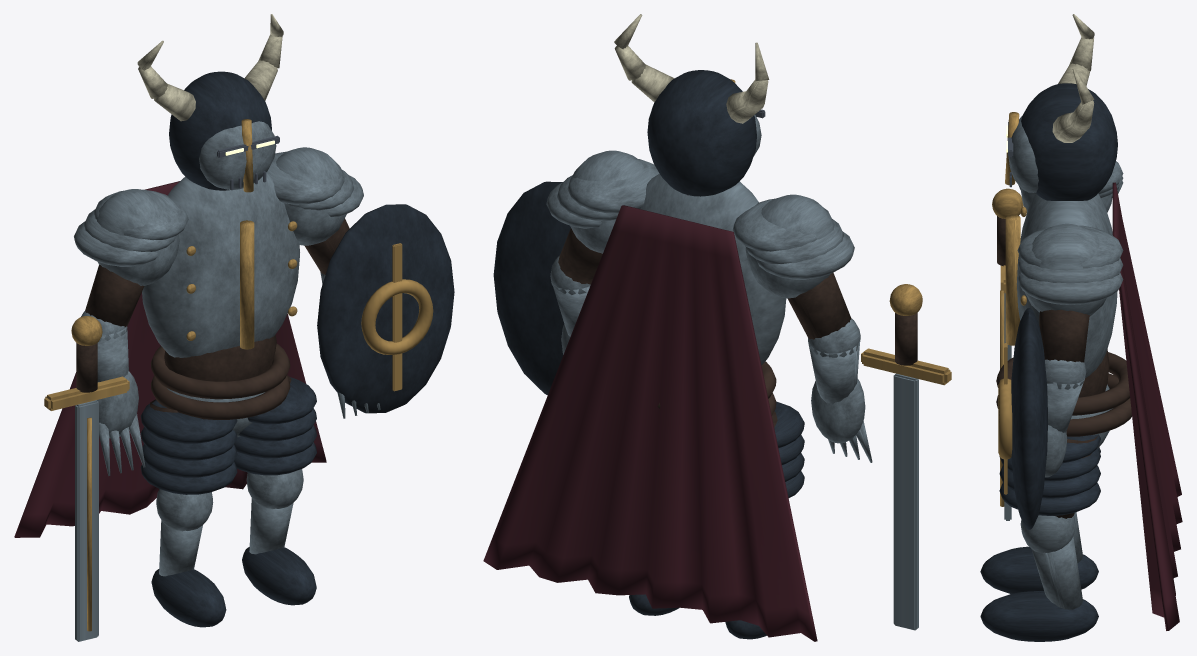
The model's file is enemy_knight.glb.
3 renders of one model, left to right at view 1: azimuth 30°, elevation 25°; view 2: azimuth 150°, elevation 25°; view 3: azimuth 270°, elevation 25°, orthographic. The views are drawn at different scales.
Visible parts, largest first — view 1: Weathered_blue_steel, Forged_black_iron.003, Weathered_blue_steel.002, Worn_crimson_cloth, Forged_black_iron, Oiled_leather, Forged_black_iron.001, Antique_brass.002, Weathered_blue_steel.004, Forged_black_iron.002, Weathered_blue_steel.006, Weathered_blue_steel.001 (+8 smaller); view 2: Worn_crimson_cloth, Weathered_blue_steel.002, Forged_black_iron.003, Forged_black_iron.002, Weathered_blue_steel.004, Weathered_blue_steel.006, Weathered_blue_steel, Aged_bone, Forged_black_iron, Oiled_leather.002, Antique_brass.002, Oiled_leather.004 (+1 smaller); view 3: Worn_crimson_cloth, Weathered_blue_steel.004, Forged_black_iron.001, Forged_black_iron.002, Forged_black_iron.003, Weathered_blue_steel, Weathered_blue_steel.003, Oiled_leather, Antique_brass.002, Forged_black_iron, Aged_bone, Oiled_leather.004 (+6 smaller).
Part boxes in pixels (x1,y1,x2,y2): Weathered_blue_steel: (142, 173, 299, 437); Forged_black_iron.003: (317, 204, 454, 413); Weathered_blue_steel.002: (74, 189, 188, 475); Worn_crimson_cloth: (14, 181, 326, 537); Forged_black_iron: (140, 400, 237, 627); Oiled_leather: (150, 335, 290, 419); Forged_black_iron.001: (234, 377, 316, 605); Antique_brass.002: (44, 243, 433, 631); Weathered_blue_steel.004: (266, 147, 380, 418); Forged_black_iron.002: (169, 71, 271, 190); Weathered_blue_steel.006: (75, 400, 98, 641); Weathered_blue_steel.001: (156, 489, 213, 576); Worn_crimson_cloth: (483, 205, 817, 641); Weathered_blue_steel.002: (733, 194, 872, 462); Forged_black_iron.003: (493, 181, 570, 395); Forged_black_iron.002: (647, 70, 756, 196); Weathered_blue_steel.004: (546, 150, 659, 354); Weathered_blue_steel.006: (893, 373, 918, 630); Weathered_blue_steel: (640, 174, 786, 365); Aged_bone: (614, 14, 769, 123); Forged_black_iron: (725, 401, 804, 639); Oiled_leather.002: (788, 272, 851, 339); Antique_brass.002: (861, 284, 951, 385); Oiled_leather.004: (558, 228, 602, 284); Worn_crimson_cloth: (1112, 182, 1182, 630); Weathered_blue_steel.004: (1017, 223, 1123, 509); Forged_black_iron.001: (980, 434, 1100, 641); Forged_black_iron.002: (1021, 83, 1117, 200); Forged_black_iron.003: (1011, 308, 1047, 529); Weathered_blue_steel: (1016, 193, 1117, 448); Weathered_blue_steel.003: (1020, 515, 1082, 609); Oiled_leather: (996, 349, 1131, 436); Antique_brass.002: (992, 188, 1023, 506); Forged_black_iron: (980, 447, 1100, 593); Aged_bone: (1052, 14, 1094, 142); Oiled_leather.004: (1039, 309, 1089, 362).
Size of the model in its own units: 2.26 by 2.92 by 0.9309.
9 materials, 7 textured.
